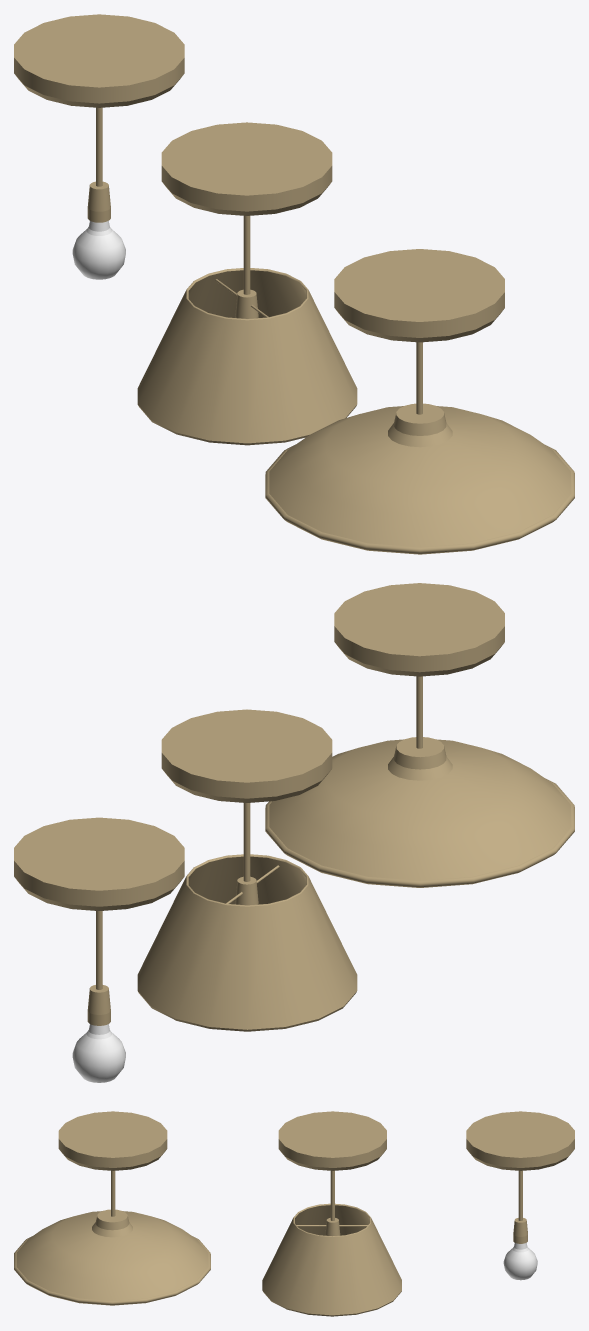
The model's file is Lighting.fbx.
3 renders of one model, top to bottom at view 1: azimuth 30°, elevation 25°; view 2: azimuth 150°, elevation 25°; view 3: azimuth 270°, elevation 25°, orthographic. The views are drawn at different scales.
Parts seen in each view (by area): view 1: Lighting2, Lighting3, Lighting1; view 2: Lighting2, Lighting3, Lighting1; view 3: Lighting2, Lighting3, Lighting1.
Part boxes in pixels (<box>): Lighting2: <box>265,249,574,554</box>; Lighting3: <box>137,122,357,445</box>; Lighting1: <box>14,14,184,279</box>; Lighting2: <box>265,583,574,887</box>; Lighting3: <box>137,709,357,1031</box>; Lighting1: <box>14,817,184,1082</box>; Lighting2: <box>14,1111,210,1305</box>; Lighting3: <box>262,1111,401,1316</box>; Lighting1: <box>466,1111,574,1280</box>.
Bounding box in the file's own units: 3.58 × 10.03 × 3.01.
